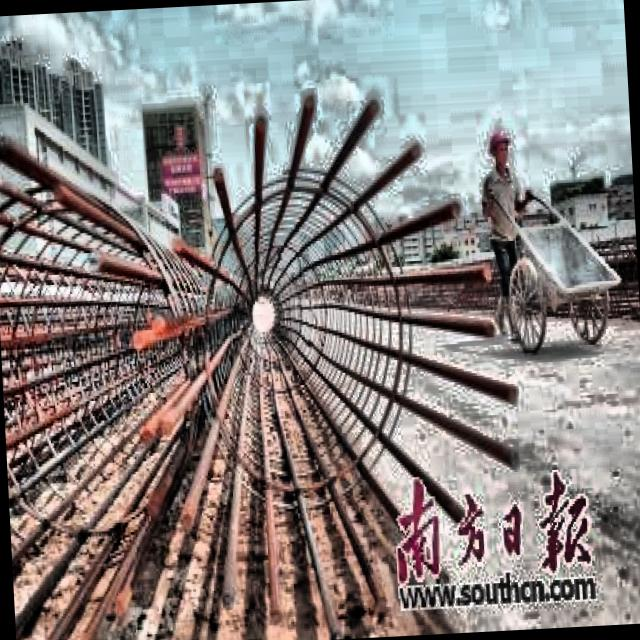helmet: (487, 125, 518, 174)
